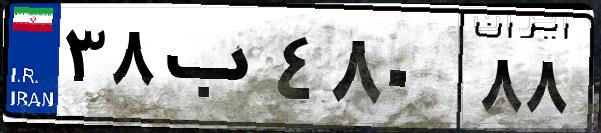0: (385, 28, 445, 110)
3: (57, 26, 110, 100)
4: (270, 28, 330, 110)
8: (330, 28, 385, 110), (475, 38, 525, 113), (525, 38, 570, 115), (110, 28, 158, 98)
ب: (158, 20, 270, 120)
